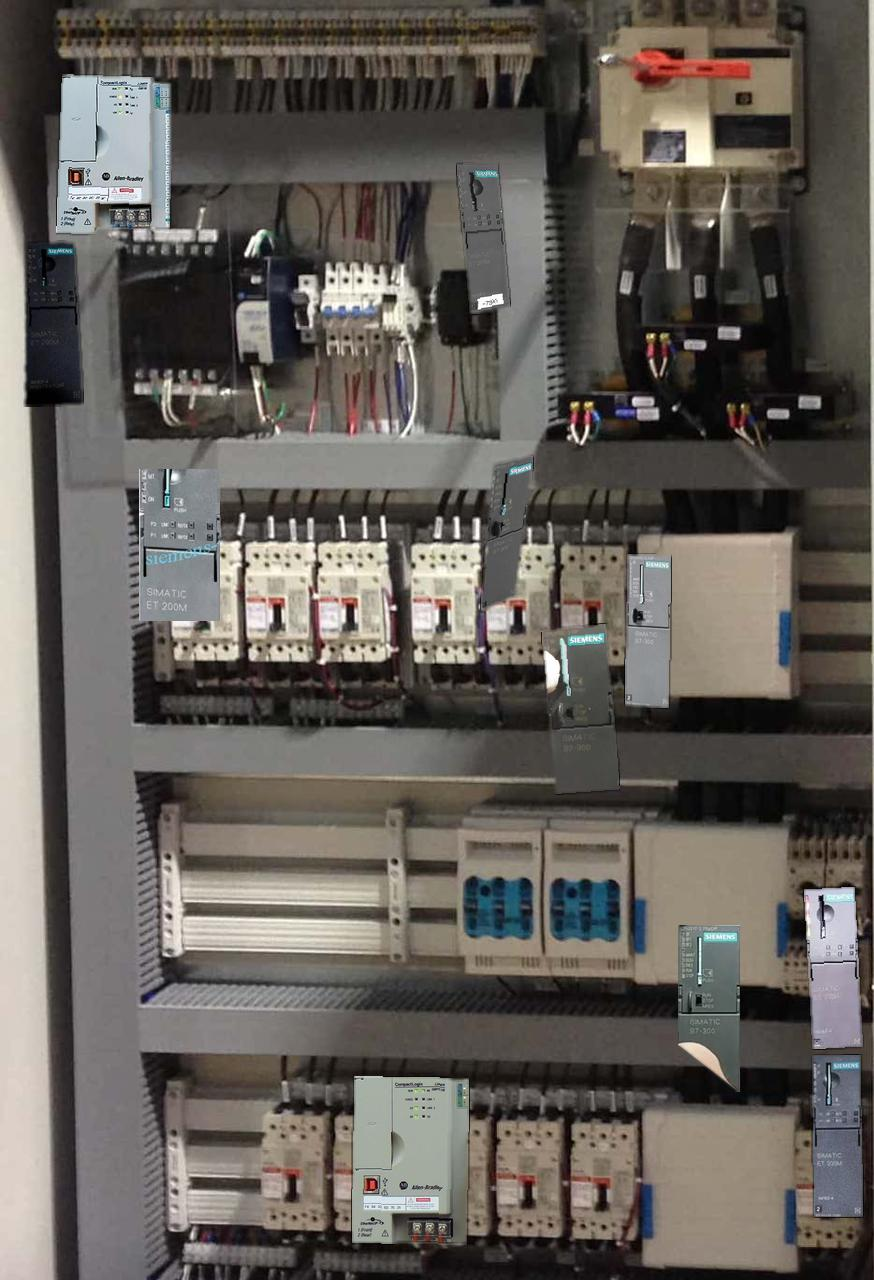AllenBradley: (352, 1076, 468, 1243), (56, 75, 170, 233)
Siemens: (541, 624, 619, 793), (678, 925, 739, 1091), (481, 456, 532, 610), (625, 554, 670, 707)
